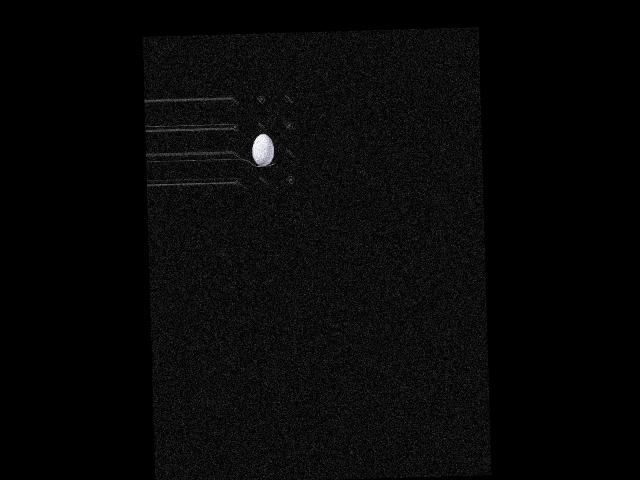egg: (251, 134, 274, 166)
